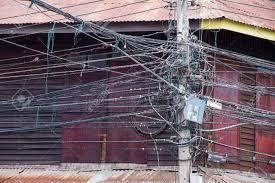wires: (1, 0, 178, 126), (195, 42, 275, 126)
